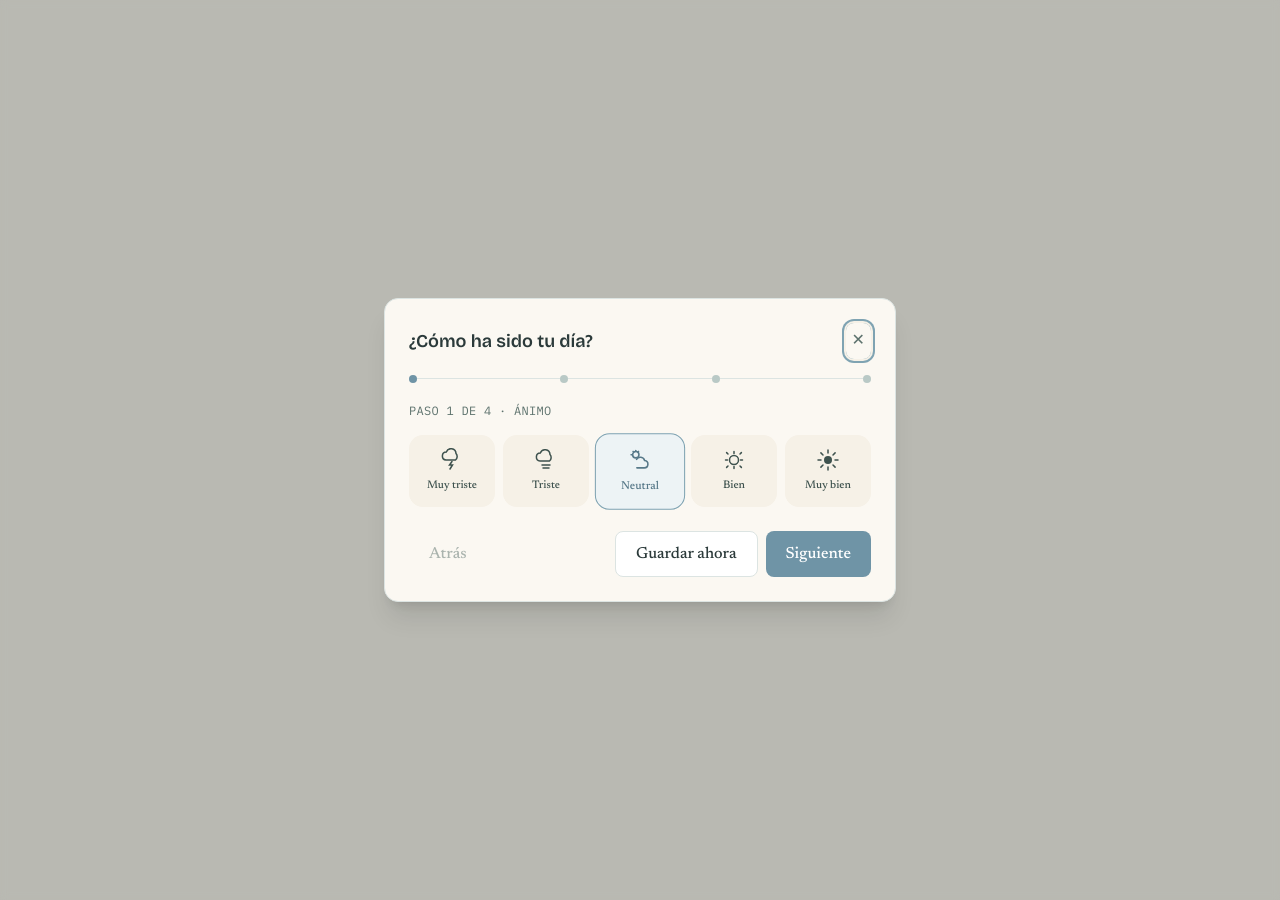
Scenario: DailyLogModal › goes back a step when "Atrás" is clicked
The image size is (1280, 900).
What coordinates should you click on to do the following:
click the button "Siguiente"
I would click on:
 (818, 554)
Its box is x1=766 y1=531 x2=871 y2=577.
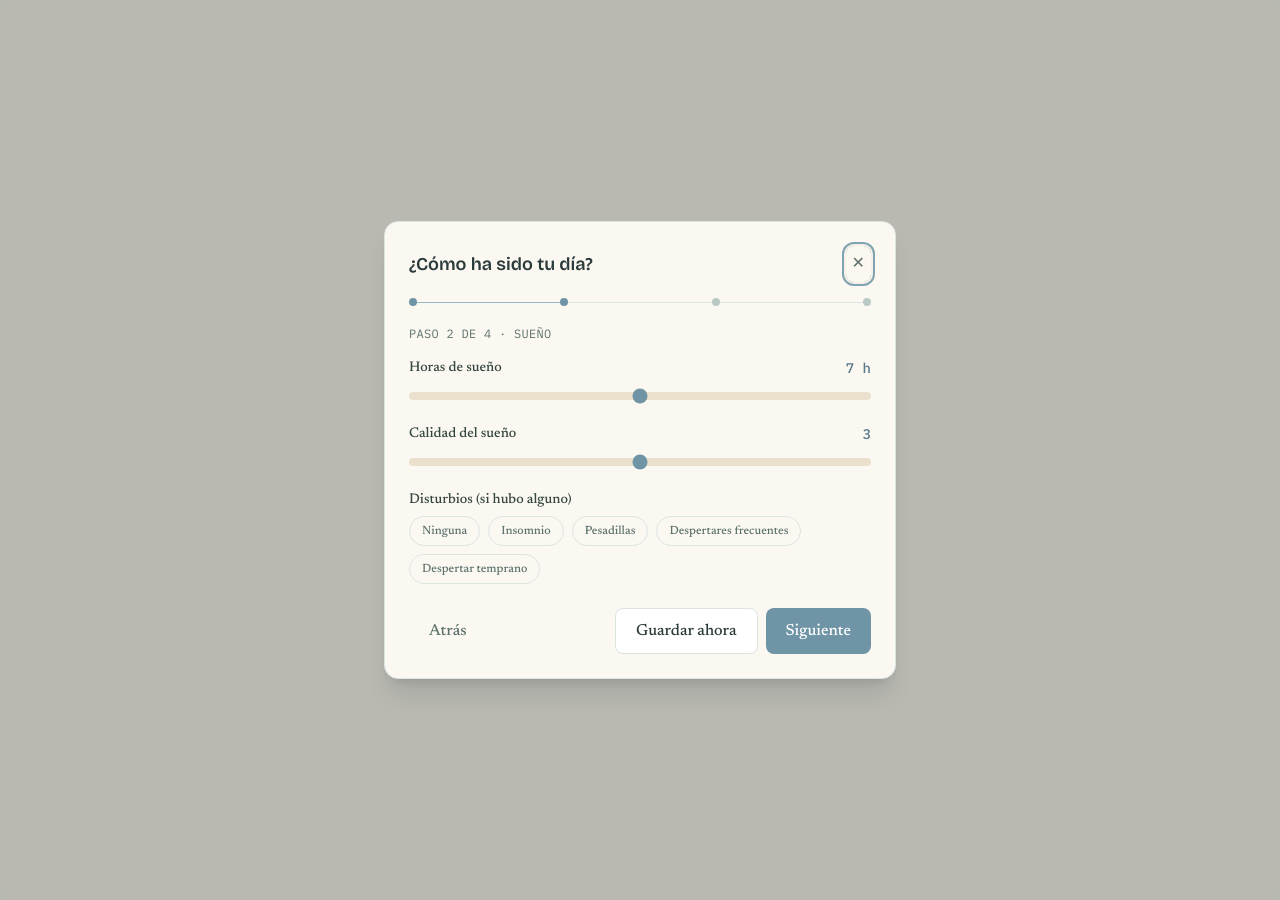
What coordinates should you click on to do the following:
click the button "Atrás"
I would click on:
 (448, 631)
Its box is x1=409 y1=609 x2=487 y2=653.
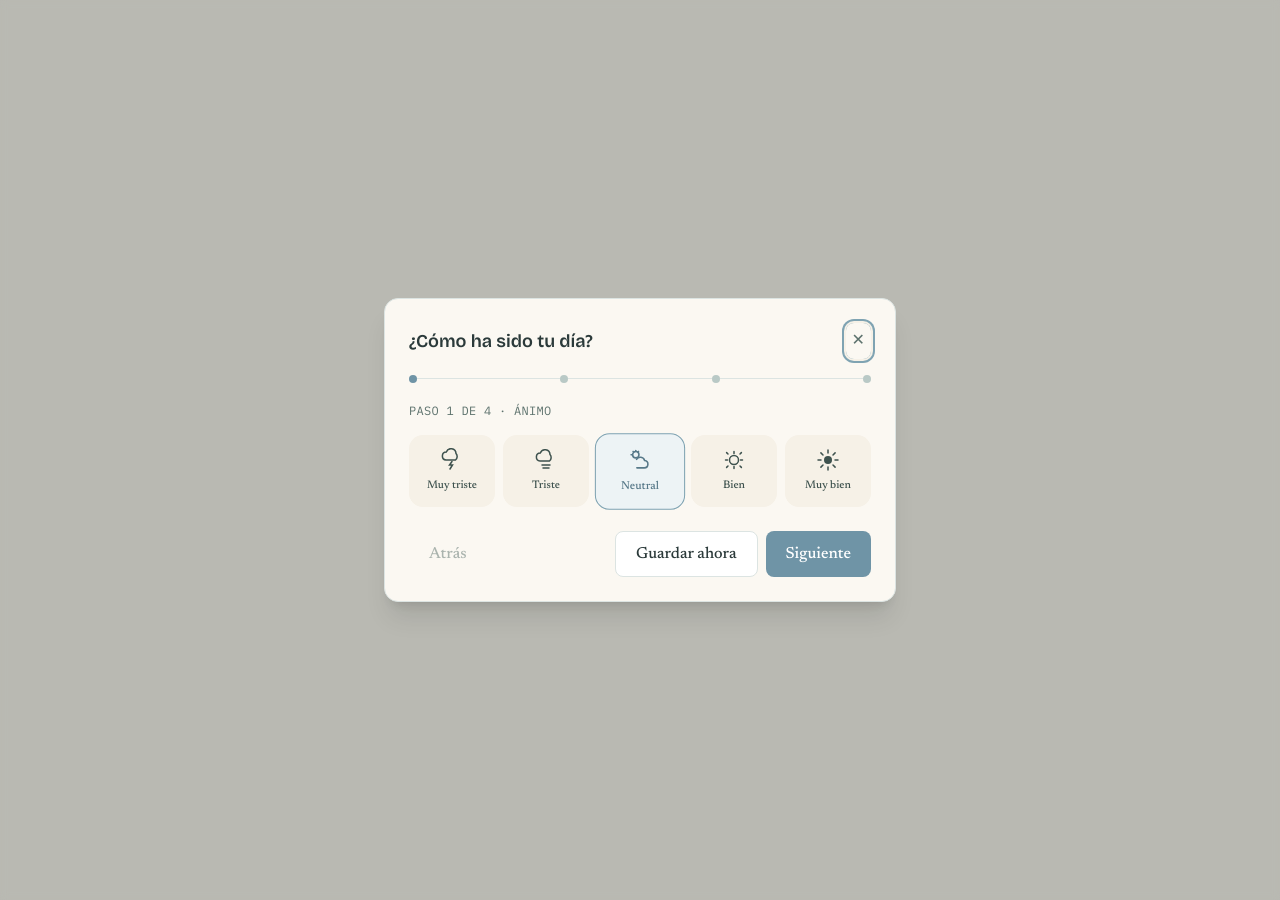
Expected: the text "Paso 1 de 4 · Ánimo" is shown, x1=409 y1=403 x2=552 y2=418
